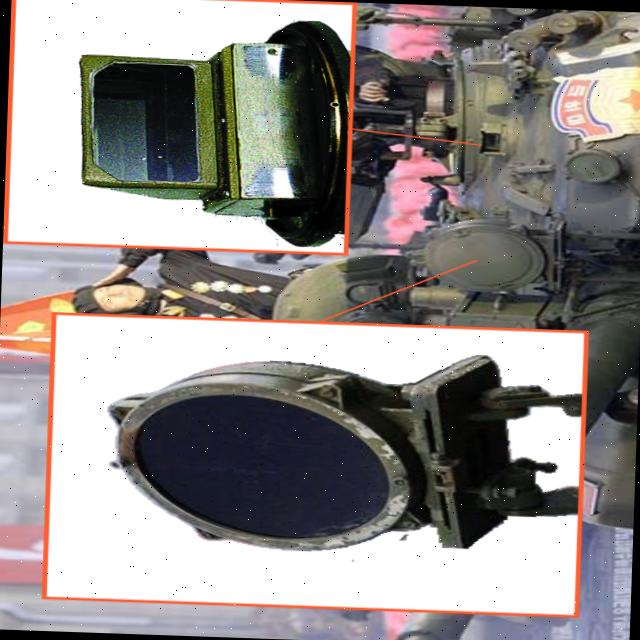north tank: (387, 3, 640, 333)
